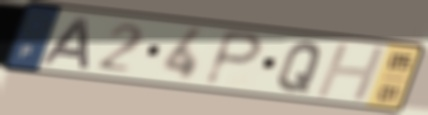2: (94, 23, 147, 75)
4: (157, 24, 207, 85)
A: (40, 17, 92, 72)
H: (312, 42, 390, 103)
P: (200, 28, 267, 89)
Q: (274, 40, 326, 95)
